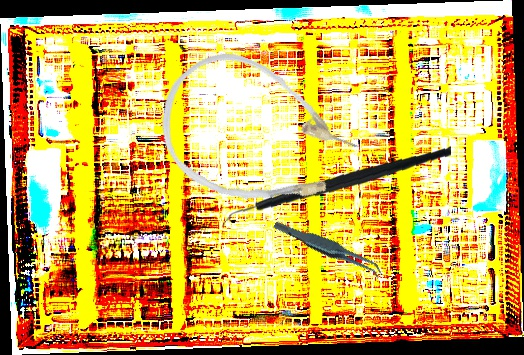Cannula: (140, 34, 374, 238)
Chopper: (221, 129, 452, 249)
Tissue Forceps: (272, 200, 385, 297)
